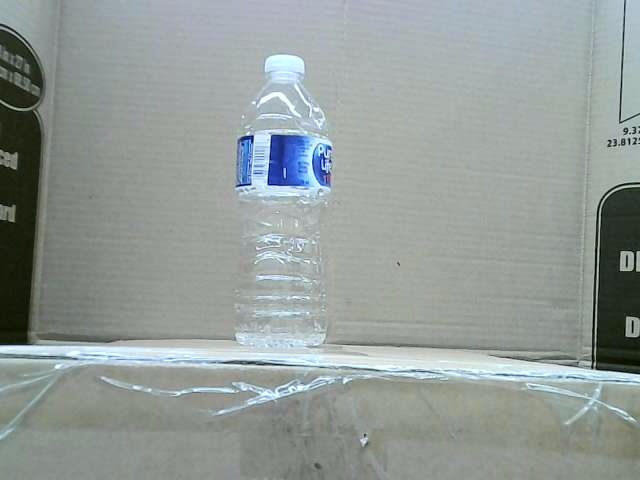WaterBottle: (233, 54, 333, 347)
